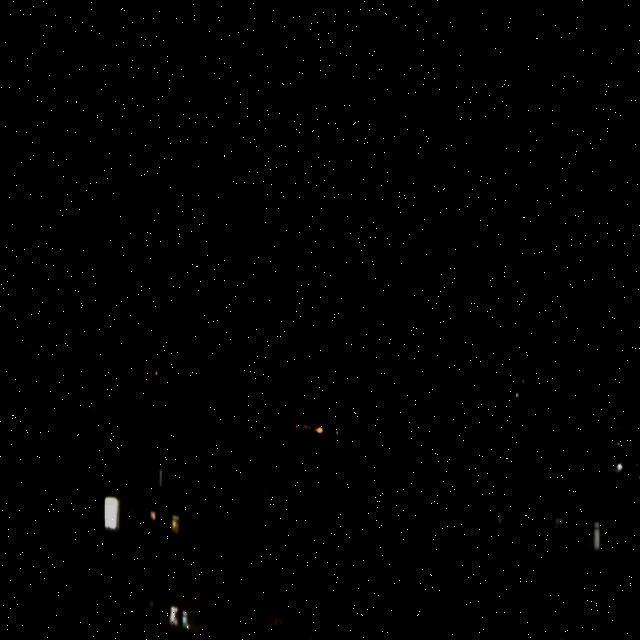Fire: (294, 416, 324, 431)
